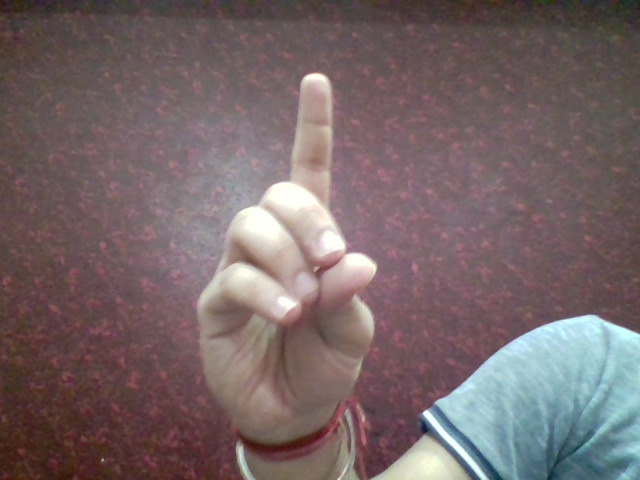d: (185, 67, 408, 416)
